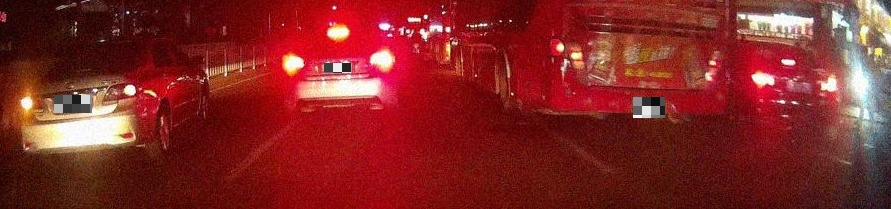L_light: (20, 94, 44, 113), (751, 71, 777, 88), (283, 56, 308, 70)
R_light: (102, 82, 143, 105), (367, 54, 392, 68), (819, 75, 838, 91)
T_light: (326, 26, 350, 38), (92, 42, 117, 48), (780, 58, 797, 66)
night-brake: (281, 23, 394, 112), (744, 39, 839, 137)
night-left: (19, 37, 151, 173)
plate_1: (54, 95, 92, 113)
plate_2: (324, 63, 351, 73)
plate_3: (633, 97, 665, 118)
